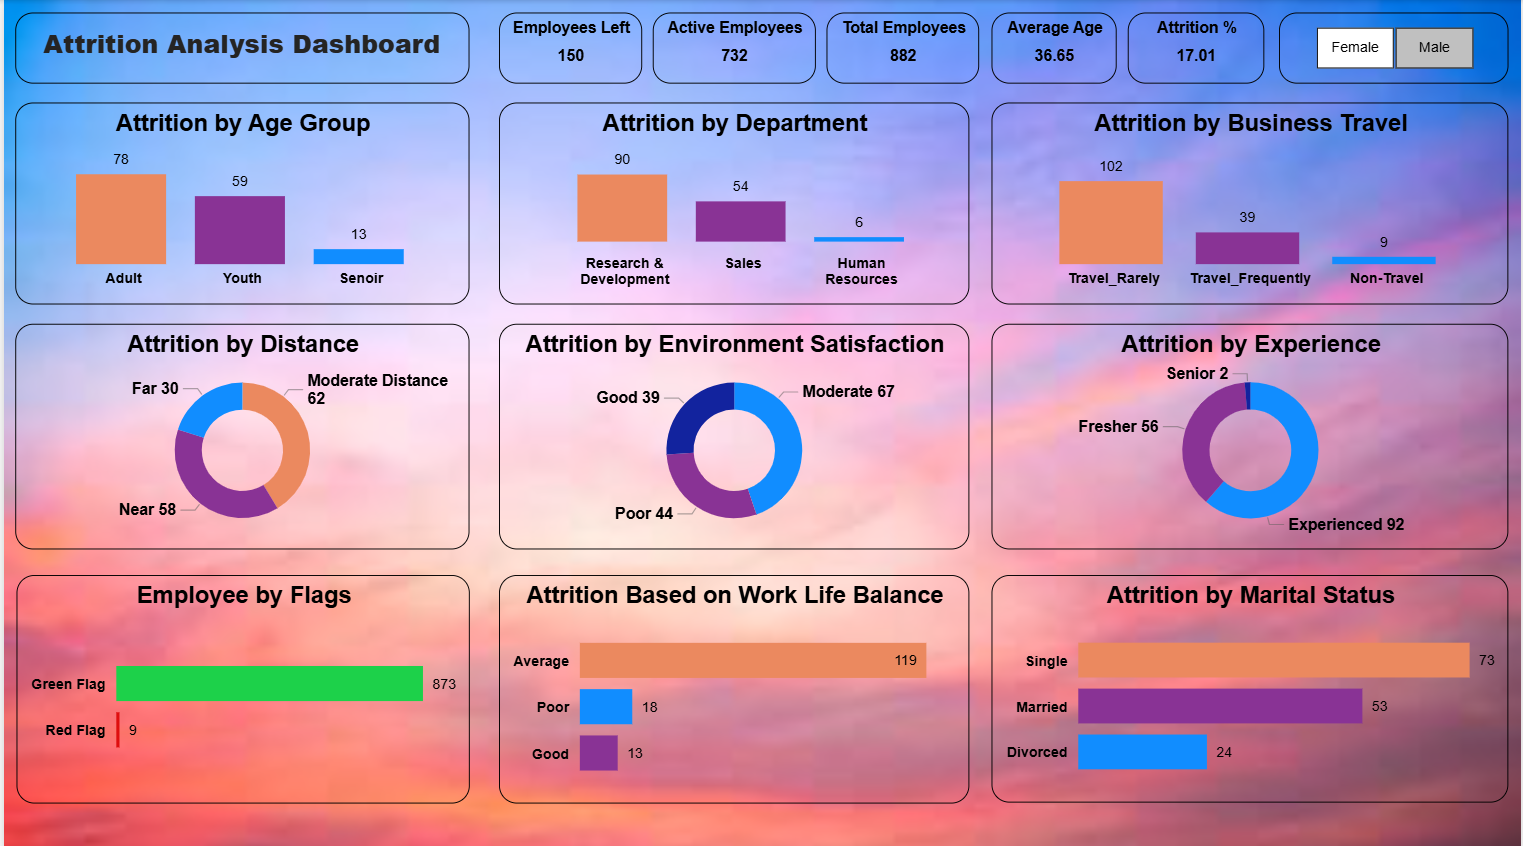

Layout of this report page (visuals, bound fields, positions):
{"tool":"powerbi","page":{"name":"Dashboard_1","canvas":[1280,720],"ordinal":0},"visuals":[{"type":"clusteredColumnChart","title":"Attrition by Age Group","fields":{"Category":["Attrition.Age Group"],"Y":["CountNonNull(Attrition.EmployeeCount)"]},"box":[9.6,86.4,382.8,170.2],"z":0},{"type":"clusteredColumnChart","title":"Attrition by Business Travel","fields":{"Category":["Attrition.BusinessTravel"],"Y":["CountNonNull(Attrition.EmployeeCount)"]},"box":[832.9,86.4,436.4,170.2],"z":1000},{"type":"clusteredColumnChart","title":"Attrition by Department","fields":{"Category":["Attrition.Department"],"Y":["CountNonNull(Attrition.EmployeeCount)"]},"box":[417.2,86.4,396.6,170.2],"z":2000},{"type":"donutChart","title":"Attrition by Distance","fields":{"Category":["Attrition.Distance"],"Y":["CountNonNull(Attrition.EmployeeCount)"]},"box":[9.6,273.1,382.8,190.7],"z":3000},{"type":"textbox","box":[9.6,11,382.8,60.4],"z":4000},{"type":"card","title":"Employees Left","fields":{"Values":["CountNonNull(Attrition.Attrition)"]},"box":[417.2,11,120.8,60.4],"z":5000},{"type":"card","title":"Active Employees","fields":{"Values":["CountNonNull(Attrition.Attrition)"]},"box":[547.5,11,137.2,60.4],"z":6000},{"type":"card","title":"Total Employees","fields":{"Values":["CountNonNull(Attrition.Attrition)"]},"box":[694.3,11,129,60.4],"z":7000},{"type":"card","title":"Average Age","fields":{"Values":["Avg(Attrition.Age)"]},"box":[832.9,11,105.7,60.4],"z":8000},{"type":"card","title":"Attrition %","fields":{"Values":["Attrition.Attrition Percentage"]},"box":[948.2,11,115.3,60.4],"z":9000},{"type":"slicer","fields":{"Values":["Attrition.Gender"]},"box":[1075.8,11,193.5,60.4],"z":10000},{"type":"donutChart","title":"Attrition by Environment Satisfaction","fields":{"Category":["Attrition.Env_Sat_Rat"],"Y":["CountNonNull(Attrition.EmployeeCount)"]},"box":[417.2,273.1,396.6,190.7],"z":11000},{"type":"donutChart","title":"Attrition by Experience","fields":{"Category":["Attrition.Experience"],"Y":["CountNonNull(Attrition.EmployeeCount)"]},"box":[832.9,273.1,436.4,190.7],"z":12000},{"type":"clusteredBarChart","title":"Employee by Flags","fields":{"Category":["Attrition.Flags"],"Y":["CountNonNull(Attrition.EmployeeCount)"]},"box":[10.5,484.9,382.6,193],"z":13000},{"type":"clusteredBarChart","title":"Attrition by Marital Status","fields":{"Category":["Attrition.MaritalStatus"],"Y":["CountNonNull(Attrition.EmployeeNumber)"]},"box":[832.6,484.9,436,191.9],"z":14000},{"type":"clusteredBarChart","title":"Attrition Based on Work Life Balance","fields":{"Category":["Attrition.WLB"],"Y":["CountNonNull(Attrition.EmployeeCount)"]},"box":[417.4,484.9,396.5,193],"z":15000}]}

Visuals, with their boxes in screenshot pixels (x1, y1, x2, y2), scaled from the page's 1280x720 canvas onto the 1523x846 screenshot:
"Attrition by Age Group" clusteredColumnChart: x1=11 y1=102 x2=467 y2=302
"Attrition by Business Travel" clusteredColumnChart: x1=991 y1=102 x2=1510 y2=302
"Attrition by Department" clusteredColumnChart: x1=496 y1=102 x2=968 y2=302
"Attrition by Distance" donutChart: x1=11 y1=321 x2=467 y2=545
textbox: x1=11 y1=13 x2=467 y2=84
"Employees Left" card: x1=496 y1=13 x2=640 y2=84
"Active Employees" card: x1=651 y1=13 x2=815 y2=84
"Total Employees" card: x1=826 y1=13 x2=980 y2=84
"Average Age" card: x1=991 y1=13 x2=1117 y2=84
"Attrition %" card: x1=1128 y1=13 x2=1265 y2=84
slicer - Attrition.Gender: x1=1280 y1=13 x2=1510 y2=84
"Attrition by Environment Satisfaction" donutChart: x1=496 y1=321 x2=968 y2=545
"Attrition by Experience" donutChart: x1=991 y1=321 x2=1510 y2=545
"Employee by Flags" clusteredBarChart: x1=12 y1=570 x2=468 y2=797
"Attrition by Marital Status" clusteredBarChart: x1=991 y1=570 x2=1509 y2=795
"Attrition Based on Work Life Balance" clusteredBarChart: x1=497 y1=570 x2=968 y2=797
